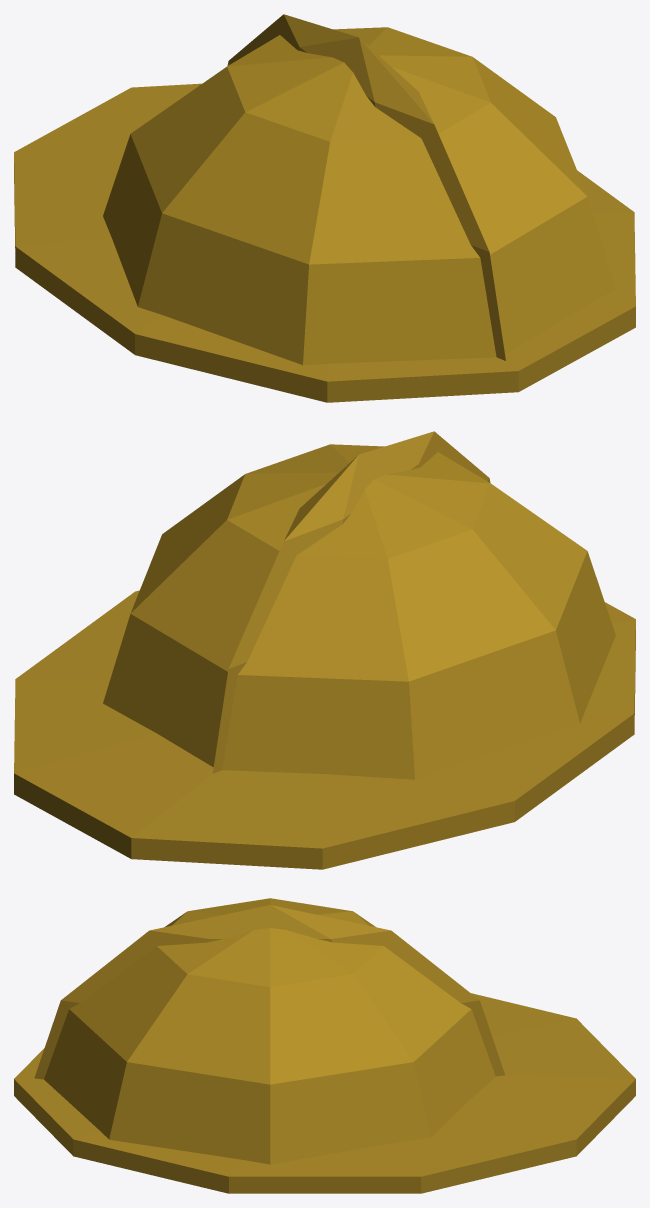
The model's file is hat_carpenter.glb.
3 renders of one model, top to bottom at view 1: azimuth 30°, elevation 25°; view 2: azimuth 150°, elevation 25°; view 3: azimuth 270°, elevation 25°, orthographic. The views are drawn at different scales.
Parts seen in each view (by area): view 1: Hat; view 2: Hat; view 3: Hat.
Boxes of the visible parts, <box> form: Hat: <box>14,14,635,402</box>; Hat: <box>14,431,635,869</box>; Hat: <box>14,898,635,1193</box>.
Bounding box in the file's own units: 0.2965 × 0.141 × 0.3984.
